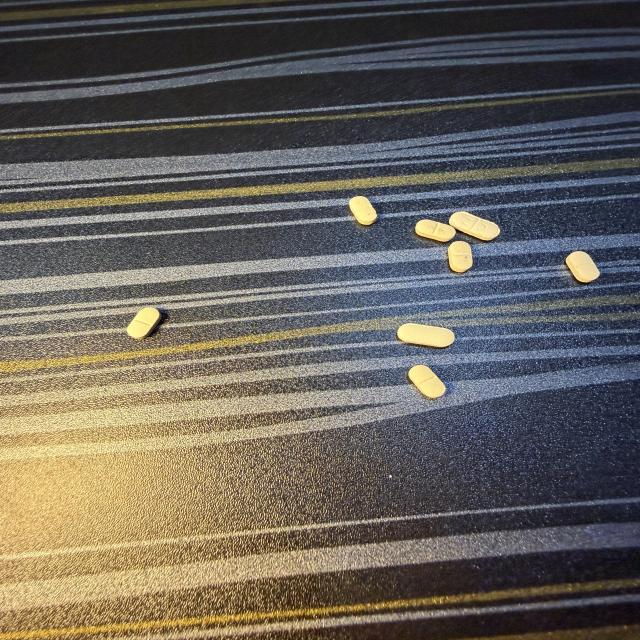pill: (450, 212, 500, 240), (397, 323, 454, 347), (409, 365, 445, 398), (126, 307, 162, 339), (566, 251, 599, 282), (416, 220, 455, 242), (349, 197, 377, 225), (448, 241, 472, 272)
